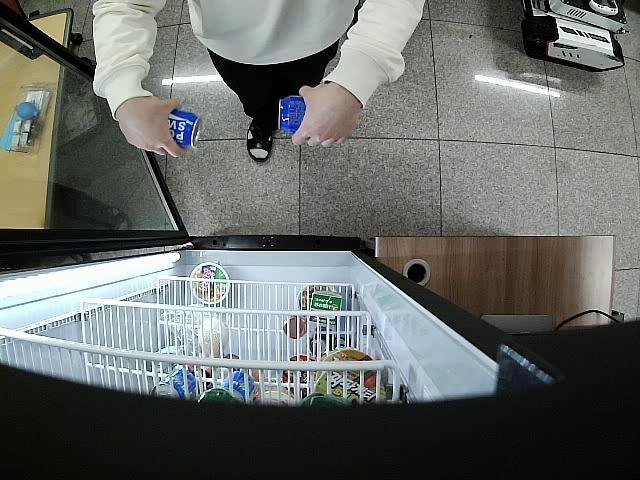13_pocariSweat: (166, 109, 203, 150), (277, 93, 306, 134)
